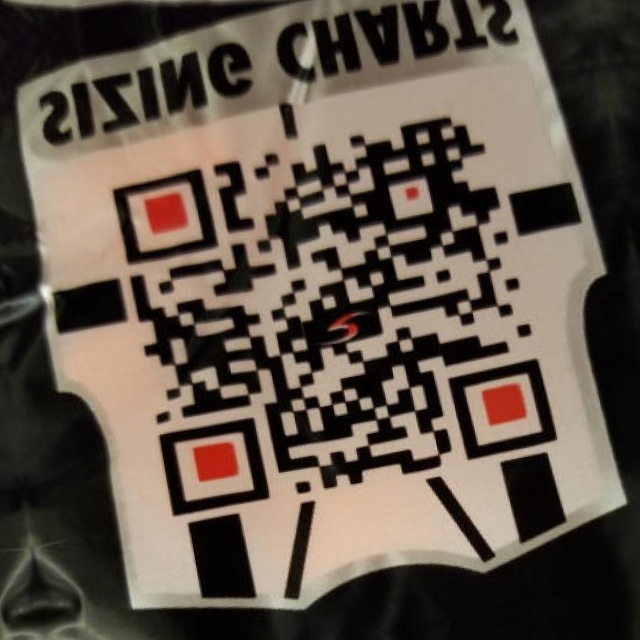qr-code: (66, 91, 593, 546)
